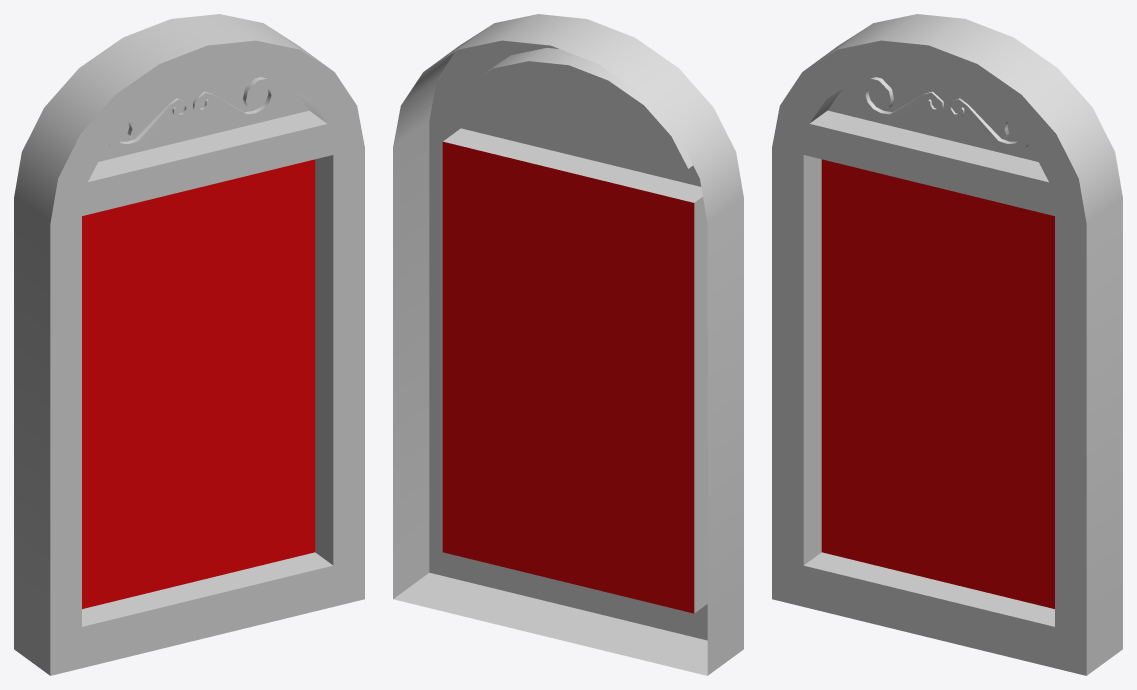
File: Window3.fbx
3 views of the same model, side by side, from view 1: azimuth 30°, elevation 25°; view 2: azimuth 150°, elevation 25°; view 3: azimuth 330°, elevation 25° (orthographic).
Visible parts, largest first — view 1: Window3_LOD0, Window3_LOD0.001; view 2: Window3_LOD0.001, Window3_LOD0; view 3: Window3_LOD0, Window3_LOD0.001.
Boxes of the visible parts, x1=… form: Window3_LOD0: x1=14, y1=14, x2=364, y2=675; Window3_LOD0.001: x1=82, y1=159, x2=315, y2=608; Window3_LOD0.001: x1=442, y1=141, x2=694, y2=613; Window3_LOD0: x1=393, y1=14, x2=743, y2=675; Window3_LOD0: x1=772, y1=14, x2=1122, y2=675; Window3_LOD0.001: x1=821, y1=159, x2=1054, y2=608.
Bounding box in the file's own units: 100 × 180 × 20.
